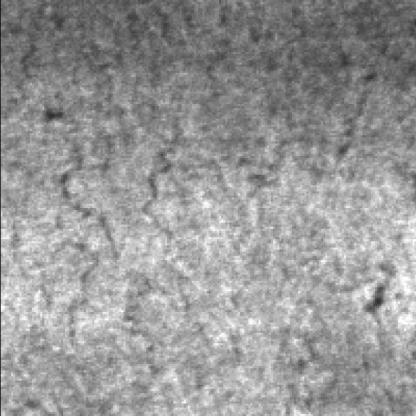crazing: (9, 23, 114, 366), (196, 4, 376, 181), (97, 0, 193, 270)
